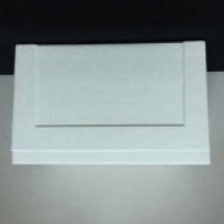foam_box: (5, 35, 217, 172)
